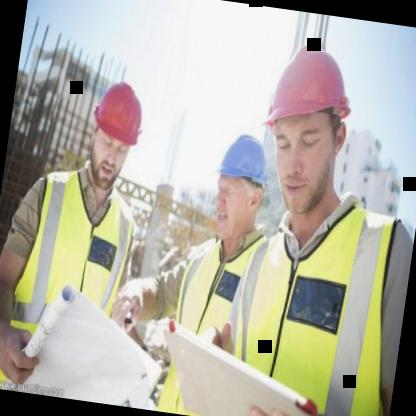helmet: (246, 26, 370, 222), (197, 116, 280, 254), (78, 69, 154, 196)
